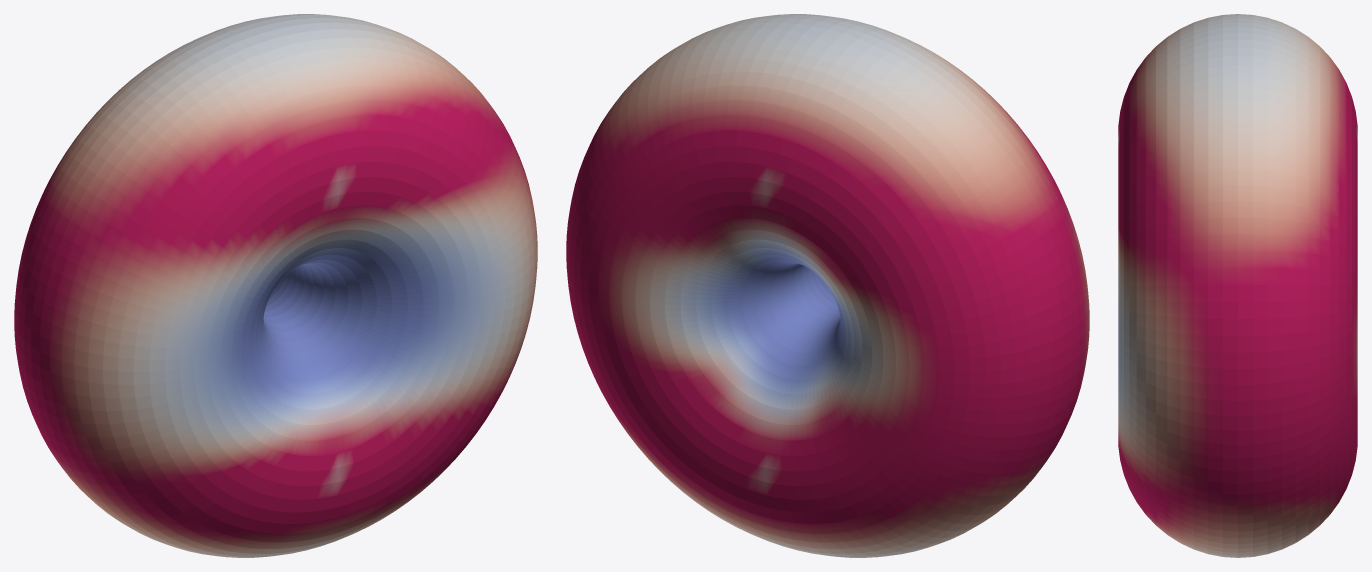
3 renders of one model, left to right at view 1: azimuth 30°, elevation 25°; view 2: azimuth 150°, elevation 25°; view 3: azimuth 270°, elevation 25°, orthographic. The views are drawn at different scales.
Visible parts, largest first — view 1: world; view 2: world; view 3: world.
Part boxes in pixels (x1,y1,x2,y2): world: [14, 14, 537, 557]; world: [566, 14, 1089, 557]; world: [1118, 14, 1357, 557].
Bounding box in the file's own units: 21.47 × 21.47 × 9.45.
